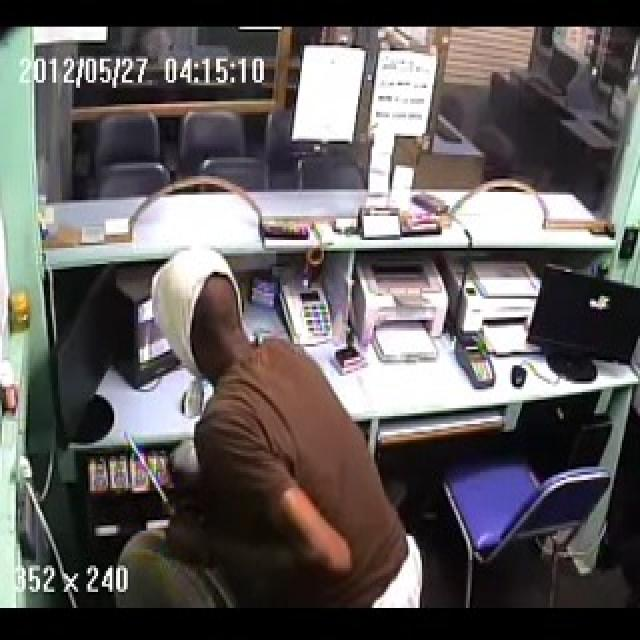thief: (149, 248, 416, 588)
